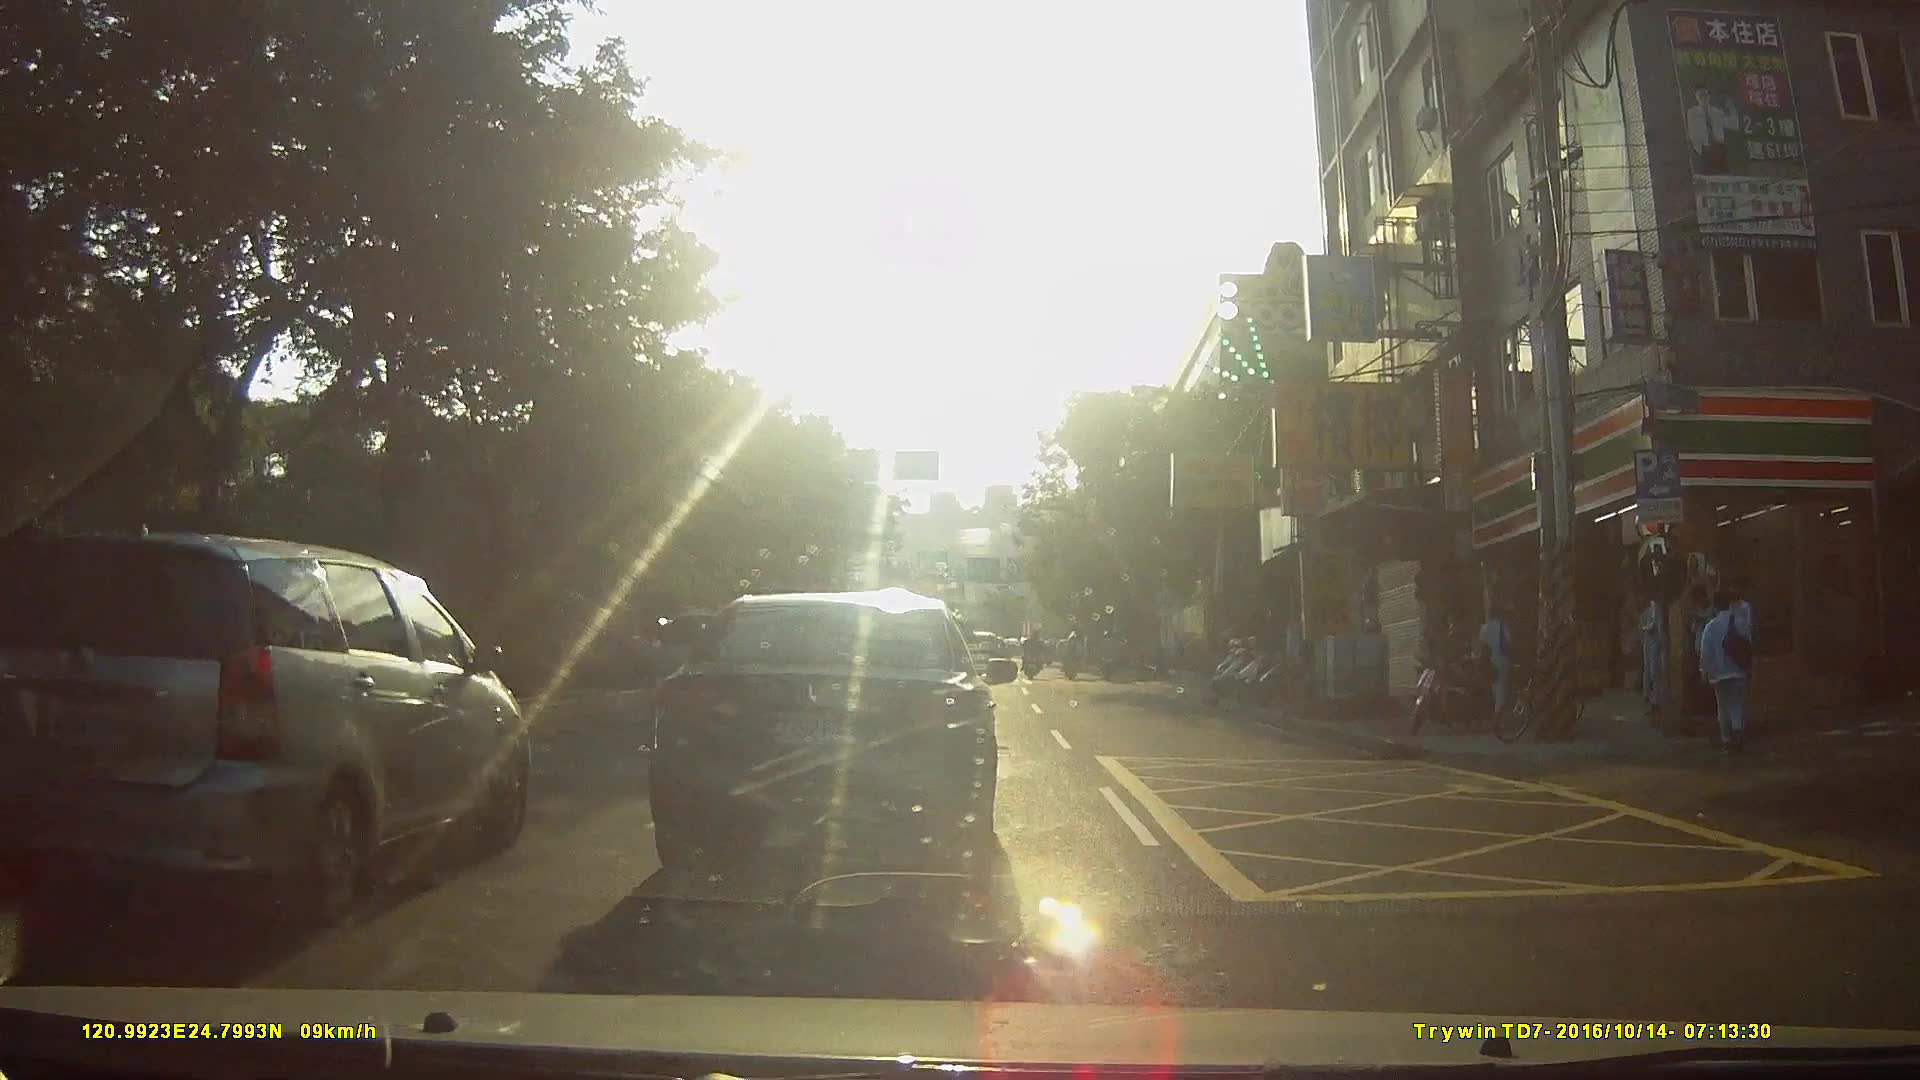pedestrian: (1703, 593, 1762, 758), (1475, 607, 1525, 717), (1693, 573, 1729, 712), (1630, 585, 1666, 716)
rider: (1062, 625, 1089, 686), (1096, 626, 1121, 687), (1022, 631, 1049, 681)
vehicle: (22, 541, 554, 900), (602, 577, 1030, 880)
